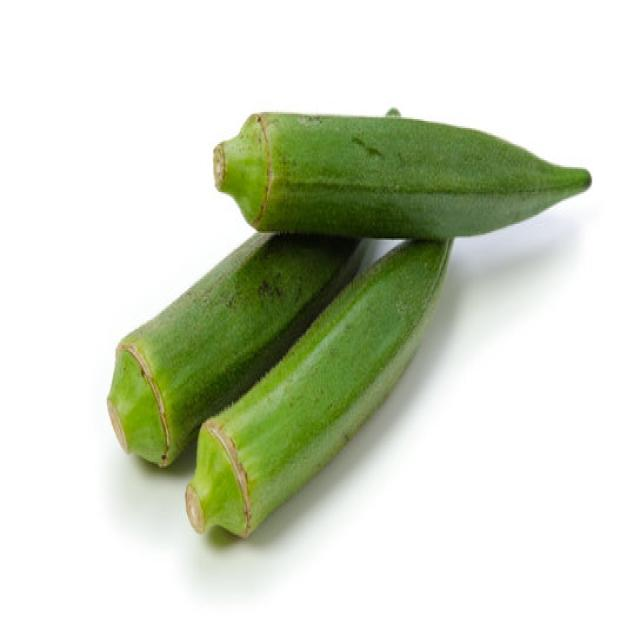Okra: (184, 234, 454, 540), (106, 230, 363, 470), (212, 105, 592, 240)
